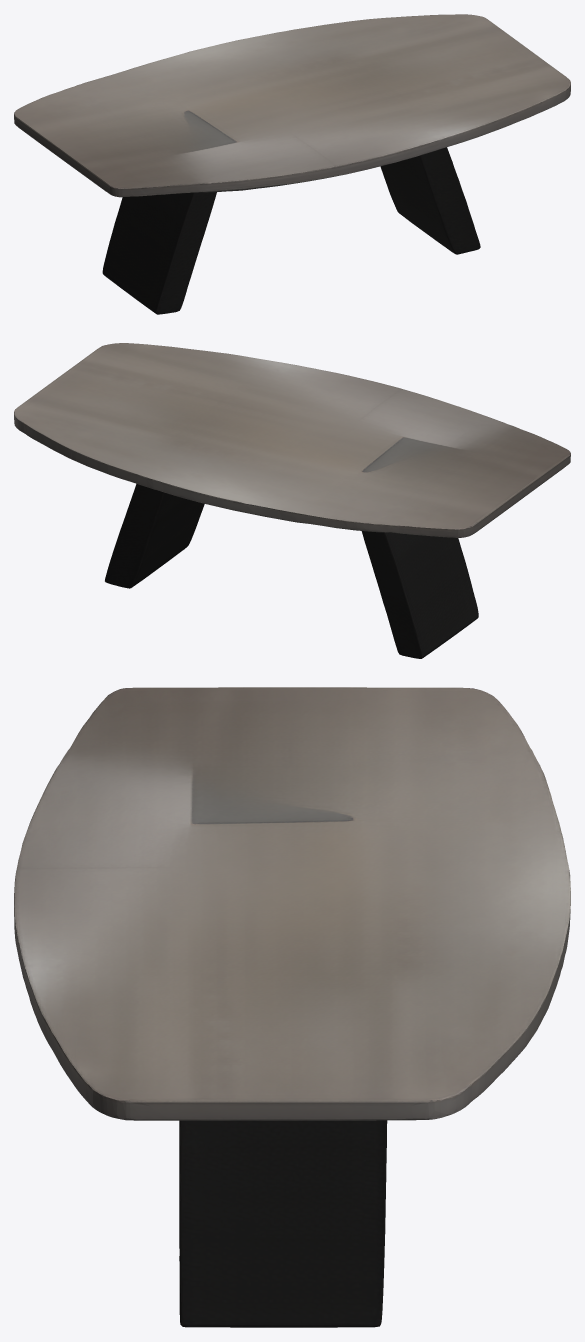
File: middle table.glb
The picture shows the model from 3 angles, top to bottom: view 1: azimuth 30°, elevation 25°; view 2: azimuth 150°, elevation 25°; view 3: azimuth 270°, elevation 25°; orthographic projection. The views are drawn at different scales.
Parts seen in each view (by area): view 1: world; view 2: world; view 3: world.
Boxes of the visible parts, box(x1,y1,x2,y2) form: world: box(14, 14, 570, 314); world: box(14, 343, 570, 658); world: box(14, 687, 570, 1327).
Bounding box in the file's own units: 1 × 0.3511 × 0.5836.
Materials: 1 (1 with a texture image).
